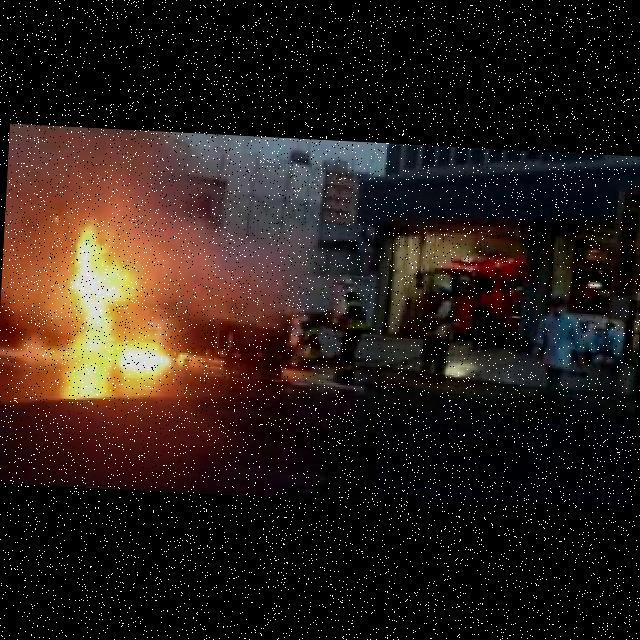Fire: (65, 221, 137, 334), (117, 340, 189, 376)
Smoke: (120, 152, 341, 331), (9, 124, 204, 236)
